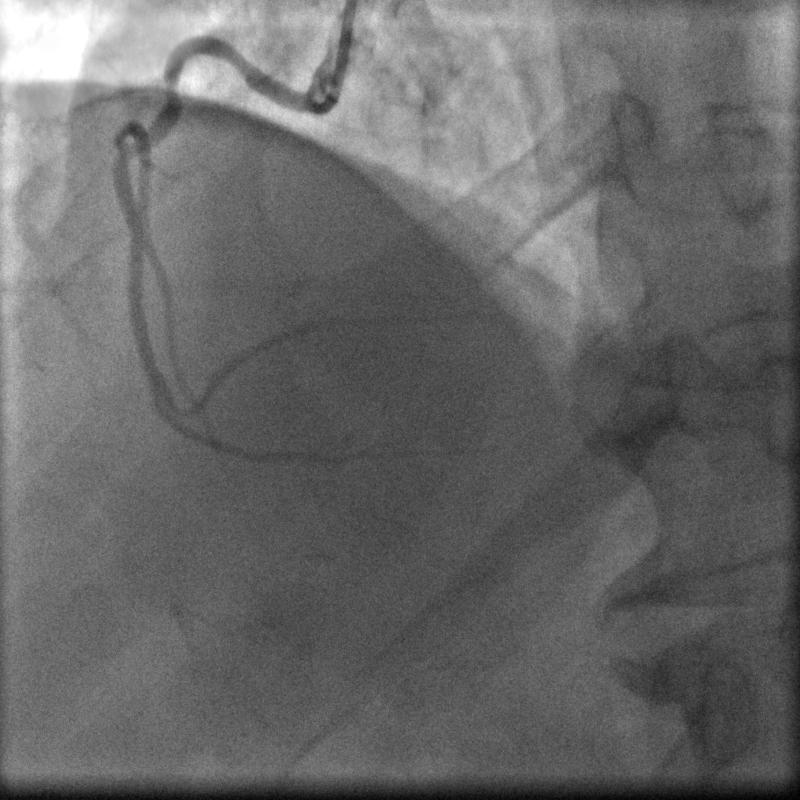Stenosis: (158, 72, 185, 106)
